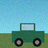vehicle: (12, 23, 44, 46)
